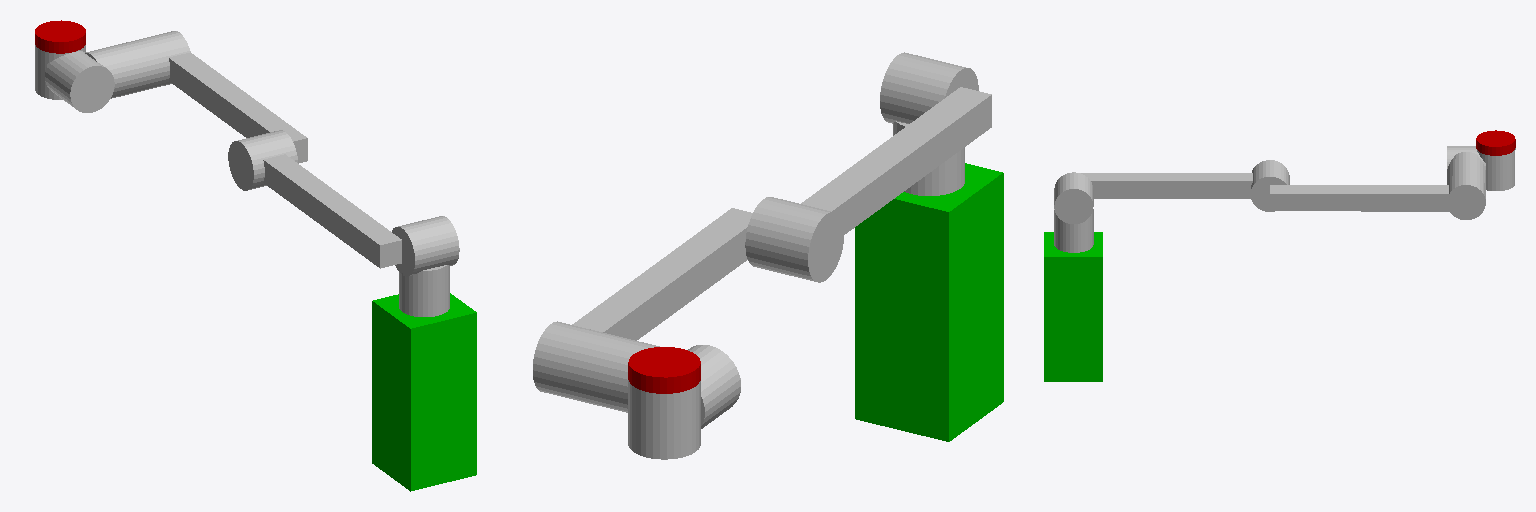
robot.urdf — 6r:
<robot name="6r">
    <material name="green">
        <color rgba="0 .8 0 1"/>
    </material>
    <material name="gray">
        <color rgba=".8 .8 .8 1"/>
    </material>
    <material name="red">
        <color rgba=".8 0 0 1"/>
    </material>

    <material name="white">
        <color rgba="1 1 1 1"/>
    </material>

    <material name="gray">
        <color rgba="0.4 0.4 0.4 1"/>
    </material>

    <link name="world"/>
    <link name="base">
        <visual>
            <origin xyz="0 0 .35" rpy="0 0 0"/>
            <geometry>
                <box size=".3 .3 .7"/>
            </geometry>
            <material name="green"/>
        </visual>
    </link>
    
    <link name="link_1">
        <inertial>
            <origin xyz="0 0 0" rpy="0 0 0"/>
            <mass value="2"/>
            <inertia ixx="0.03" iyy="0.03" izz="0.01" ixy="0" ixz="0" iyz="0"/>
        </inertial>
        <visual>
            <geometry>
                <cylinder radius=".1" length=".2"/>  
            </geometry>
            <origin xyz="0 0 0" rpy="0 0 0" />
            <material name="gray"/>
        </visual>
    </link>
    
    <link name="link_2">
        <inertial>
            <origin xyz="0 0 0" rpy="0 0 0"/>
            <mass value="2"/>
            <inertia ixx="0.02" iyy="0.02" izz="0.01" ixy="0" ixz="0" iyz="0"/>
        </inertial>
        <visual>
            <geometry>
                <cylinder radius=".1" length=".2"/>  
            </geometry>
            <origin xyz="0 0 0" rpy="0 0 0" />
            <material name="gray"/>
        </visual>
    </link>    
    
    <link name="link_2_pseudo">
        <inertial>
            <origin xyz=".5 0 -.15" rpy="0 1.57 0"/>
            <mass value="1"/>
            <inertia ixx="0.12" iyy="0.12" izz="0.01" ixy="0" ixz="0" iyz="0"/>
        </inertial>
        <visual>
            <geometry>
                <box size="1 .1 .1"/>
            </geometry>
            <origin xyz=".5 0 -.15" rpy="0 0 0" />
            <material name="gray"/>
        </visual>
    </link>
    
    <link name="link_3">
        <inertial>
            <origin xyz="0 0 0" rpy="0 0 0"/>
            <mass value="2"/>
            <inertia ixx="0.02" iyy="0.02" izz="0.01" ixy="0" ixz="0" iyz="0"/>
        </inertial>
        <visual>
            <geometry>
                <cylinder radius=".1" length=".2"/>  
            </geometry>
            <origin xyz="0 0 0" rpy="0 0 0" />
            <material name="gray"/>
        </visual>
    </link>
    
    <link name="link_3_pseudo">
        <inertial>
            <origin xyz=".5 0 .15" rpy="0 1.57 0"/>
            <mass value="1"/>
            <inertia ixx="0.12" iyy="0.12" izz="0.01" ixy="0" ixz="0" iyz="0"/>
        </inertial>
        <visual>
            <geometry>
                <box size="1 .1 .1"/>
            </geometry>
            <origin xyz=".5 0 .15" rpy="0 0 0" />
            <material name="gray"/>
        </visual>
    </link>
    
    <link name="link_4">
        <inertial>
            <origin xyz="0 0 0" rpy="0 0 0"/>
            <mass value="2"/>
            <inertia ixx="0.06" iyy="0.06" izz="0.01" ixy="0" ixz="0" iyz="0"/>
        </inertial>
        <visual>
            <geometry>
                <cylinder radius=".1" length=".4"/>  
            </geometry>
            <origin xyz="0 0 0" rpy="0 0 0" />
            <material name="gray"/>
        </visual>
    </link>
    
    <link name="link_5">
        <inertial>
            <origin xyz="0 0 0" rpy="0 0 0"/>
            <mass value="2"/>
            <inertia ixx="0.02" iyy="0.02" izz="0.01" ixy="0" ixz="0" iyz="0"/>
        </inertial>
        <visual>
            <geometry>
                <cylinder radius=".1" length=".2"/>  
            </geometry>
            <origin xyz="0 0 0" rpy="0 0 0" />
            <material name="gray"/>
        </visual>
    </link>    
    
    <link name="link_6">
        <inertial>
            <origin xyz="0 0 0" rpy="0 0 0"/>
            <mass value="2"/>
            <inertia ixx="0.02" iyy="0.02" izz="0.01" ixy="0" ixz="0" iyz="0"/>
        </inertial>
        <visual>
            <geometry>
                <cylinder radius=".1" length=".2"/>  
            </geometry>
            <origin xyz="0 0 0" rpy="0 0 0" />
            <material name="gray"/>
        </visual>
    </link>
    
    <link name="end_effector">
        <visual>
            <geometry>
                <cylinder radius=".1" length=".05"/>  
            </geometry>
            <origin xyz="0 0 0" rpy="0 0 0" />
            <material name="red"/>
        </visual>
    </link>
    <joint name="world_to_base" type="fixed">
        <parent link="world"/>
        <child link="base"/>     
        <origin xyz="0 0 0" rpy="0 0 0"/>
    </joint>
    
    <joint name="joint_1" type="revolute">
        <parent link="base"/>
        <child link="link_1"/>
        <origin xyz="0.0 0 0.8" rpy="0 0 0"/>
        <limit lower="-3.15" upper="3.15"/>
        <axis xyz="0 0 1"/>
    </joint>
    
    <joint name="joint_2" type="revolute">
        <parent link="link_1"/>
        <child link="link_2"/>
        <origin xyz="0 0 .16" rpy="1.57 0 1.57"/>
        <limit lower="-3.15" upper="3.15"/>
        <axis xyz="0 0 1"/>
    </joint>
    
    <joint name="joint_2_fixed" type="fixed">
        <parent link="link_2"/>
        <child link="link_2_pseudo"/>
        <origin xyz="0 0 0" rpy="0 0 0"/>
    </joint>
    
    <joint name="joint_3" type="revolute">
        <parent link="link_2_pseudo"/>
        <child link="link_3"/>
        <origin xyz="1 0 -.15" rpy="0 0 0"/>
        <limit lower="-2.82" upper="2.82"/>
        <axis xyz="0 0 1"/>
    </joint>    
    <joint name="joint_3_fixed" type="fixed">
        <parent link="link_3"/>
        <child link="link_3_pseudo"/>
        <origin xyz="0 0 0" rpy="0 0 0"/>
    </joint>   
    
    <joint name="joint_4" type="revolute">
        <parent link="link_3_pseudo"/>
        <child link="link_4"/>
        <origin xyz="1 0 0" rpy="0 0 0"/>
        <limit lower="-3.15" upper="3.15"/>
        <axis xyz="0 0 1"/>
    </joint>    
    
    <joint name="joint_5" type="revolute">
        <parent link="link_4"/>
        <child link="link_5"/>
        <origin xyz="0 0 -.25" rpy="1.57 0 1.57"/>
        <limit lower="-3.15" upper="3.15"/>
        <axis xyz="0 0 1"/>
    </joint>   
    
    <joint name="joint_6" type="revolute">
        <parent link="link_5"/>
        <child link="link_6"/>
        <origin xyz="0 0 .15" rpy="1.57 0 1.57"/>
        <limit lower="-3.15" upper="3.15"/>
        <axis xyz="0 0 1"/>
    </joint>    
    
    <joint name="end_effector_joint" type="fixed">
        <parent link="link_6"/>
        <child link="end_effector"/>
        <origin xyz="0 0 .125" rpy="0 0 0"/>
    </joint>
</robot>

--- Facts derived from the render (not from the file) ---
Views: 3 orthographic renders of the robot side by side, from view 1: azimuth 30°, elevation 25°; view 2: azimuth 150°, elevation 25°; view 3: azimuth 270°, elevation 25°.
Model 6r with 11 links and 10 joints (6 revolute, 4 fixed), rooted at world, posed every joint at zero.
Links seen in each view (by area): view 1: base, link_2_pseudo, link_3_pseudo, link_4, link_5, link_2, link_3, link_1, end_effector, link_6; view 2: base, link_2_pseudo, link_3_pseudo, link_4, link_3, link_6, link_2, end_effector, link_5, link_1; view 3: base, link_3_pseudo, link_2_pseudo, link_4, link_2, link_3, link_1, link_6, end_effector.
Boxes of the visible links, bbox=[...] form: base: bbox=[372, 293, 476, 491]; link_2_pseudo: bbox=[263, 154, 401, 268]; link_3_pseudo: bbox=[169, 52, 307, 163]; link_4: bbox=[85, 31, 190, 98]; link_5: bbox=[45, 51, 114, 112]; link_2: bbox=[392, 216, 459, 276]; link_3: bbox=[228, 130, 297, 190]; link_1: bbox=[399, 265, 449, 316]; end_effector: bbox=[35, 20, 85, 53]; link_6: bbox=[35, 45, 85, 99]; base: bbox=[855, 163, 1003, 441]; link_2_pseudo: bbox=[801, 87, 991, 234]; link_3_pseudo: bbox=[572, 208, 752, 340]; link_4: bbox=[533, 321, 659, 412]; link_3: bbox=[745, 197, 843, 282]; link_6: bbox=[628, 380, 700, 459]; link_2: bbox=[880, 52, 978, 123]; end_effector: bbox=[628, 347, 700, 393]; link_5: bbox=[688, 345, 740, 428]; link_1: bbox=[893, 121, 964, 195]; base: bbox=[1044, 232, 1102, 381]; link_3_pseudo: bbox=[1270, 185, 1465, 211]; link_2_pseudo: bbox=[1081, 173, 1252, 198]; link_4: bbox=[1447, 152, 1485, 219]; link_2: bbox=[1054, 172, 1093, 223]; link_3: bbox=[1251, 160, 1289, 211]; link_1: bbox=[1054, 209, 1093, 252]; link_6: bbox=[1477, 148, 1515, 190]; end_effector: bbox=[1476, 130, 1515, 155].
Size in the robot's own frame: 0.6486 by 2.4 by 1.11 metres.
Geometry: primitives only (box / cylinder / sphere), no mesh files.